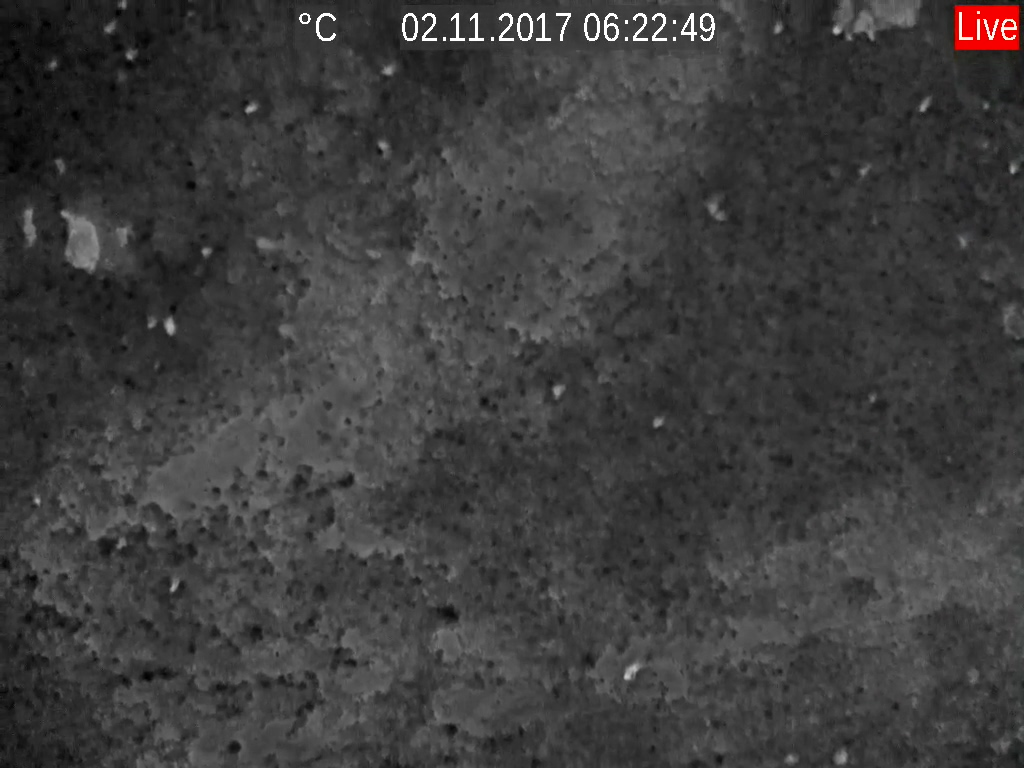warren: (617, 657, 645, 681), (240, 95, 266, 117), (165, 572, 186, 598), (914, 94, 938, 115), (160, 312, 180, 336), (649, 410, 672, 430)
